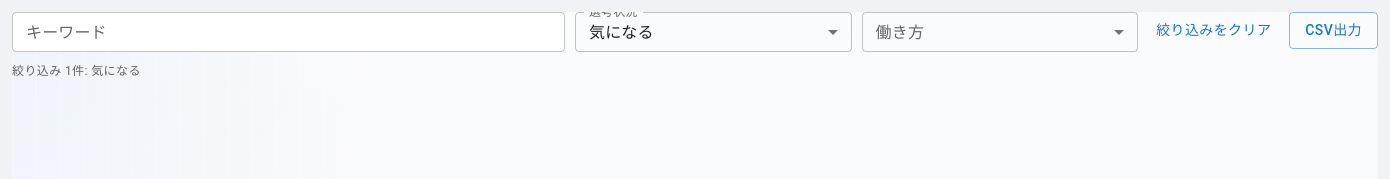
Scenario: JobFilters › cancels a pending keyword update when filters are cleared
Type "Rails" into the field labelled "キーワード" at (289, 32), box x1=12 y1=12 x2=565 y2=52
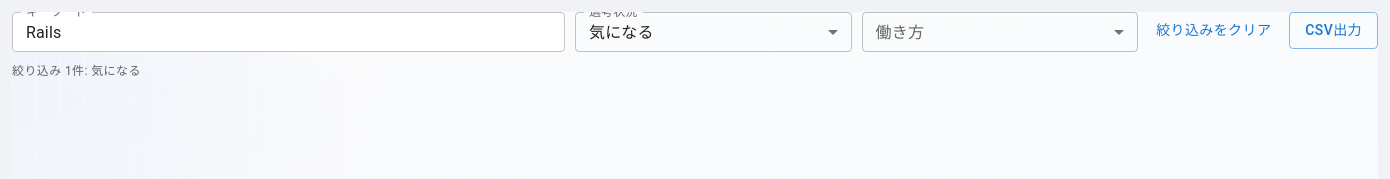
Click the button "絞り込みをクリア" at (1214, 30), box x1=1148 y1=12 x2=1279 y2=48
Wait 300 ms
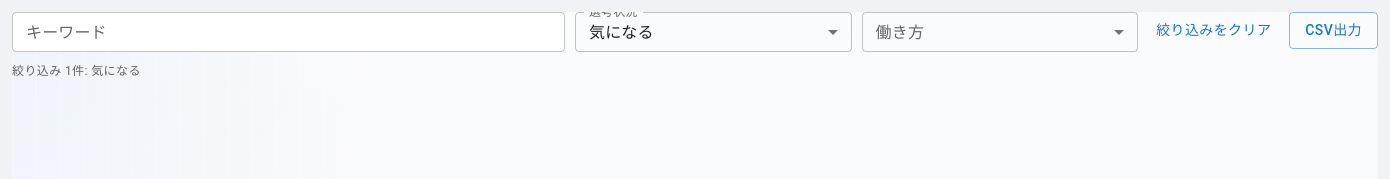
Result: the field labelled "キーワード" is empty at x1=12 y1=12 x2=565 y2=52
